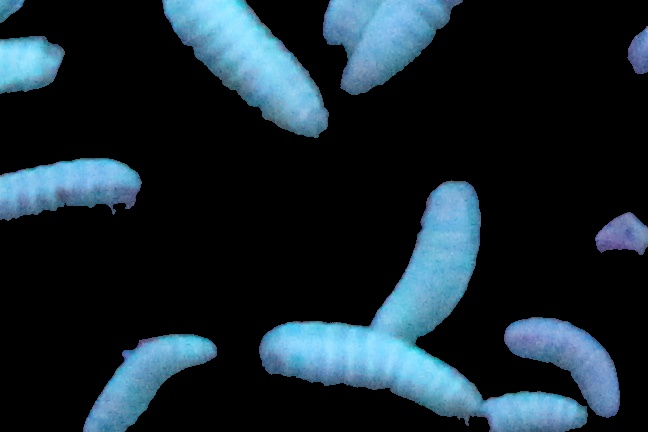larvae: (162, 1, 326, 141), (261, 319, 482, 420), (372, 180, 481, 340), (83, 333, 219, 432), (499, 320, 626, 417), (339, 1, 464, 94), (1, 157, 145, 225), (481, 385, 590, 432), (1, 33, 66, 99)
